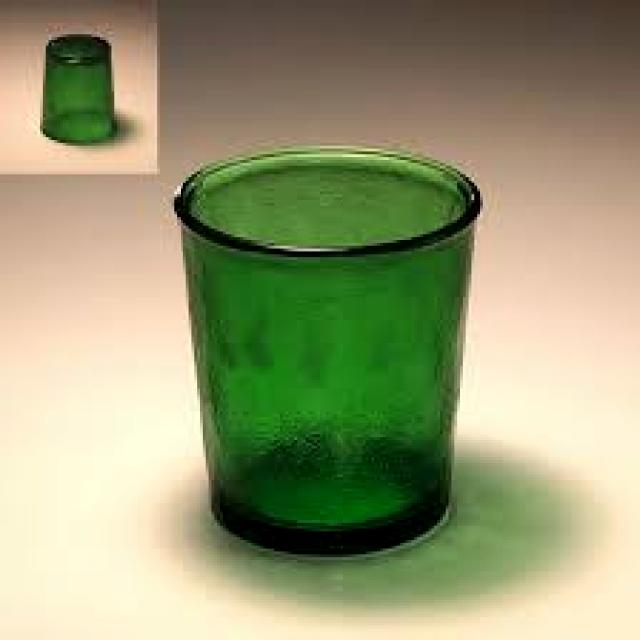Glass: (169, 142, 486, 563)
